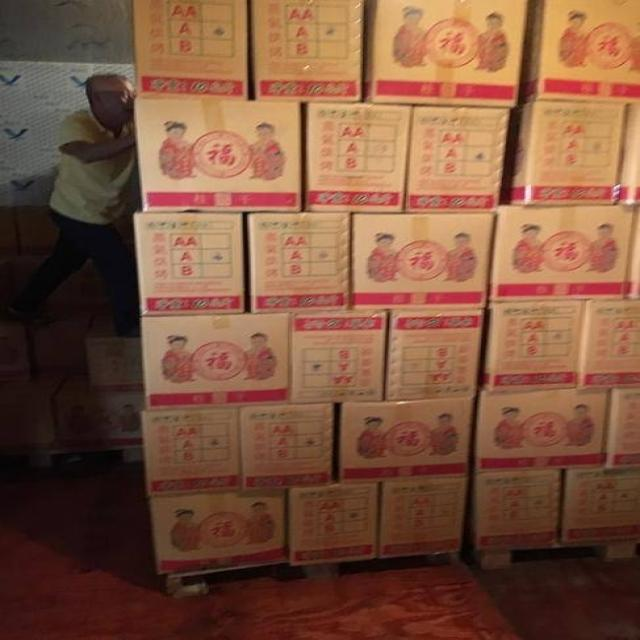box: (133, 101, 302, 214), (367, 1, 530, 107), (143, 314, 292, 411), (490, 205, 637, 302), (352, 213, 495, 310), (510, 101, 632, 204), (130, 210, 246, 317), (523, 1, 640, 103), (152, 487, 286, 576), (401, 105, 511, 213), (306, 105, 414, 212), (133, 0, 248, 99), (340, 398, 473, 483), (252, 1, 363, 101), (473, 391, 608, 472), (248, 212, 351, 311), (385, 307, 488, 401), (484, 300, 586, 393), (292, 310, 388, 405), (141, 408, 243, 497), (240, 403, 334, 487), (289, 481, 378, 565), (474, 467, 562, 549), (380, 476, 467, 557), (560, 465, 640, 550), (577, 300, 640, 388), (605, 388, 640, 469), (618, 103, 640, 206)
